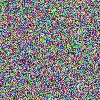person: (15, 37, 37, 57)
